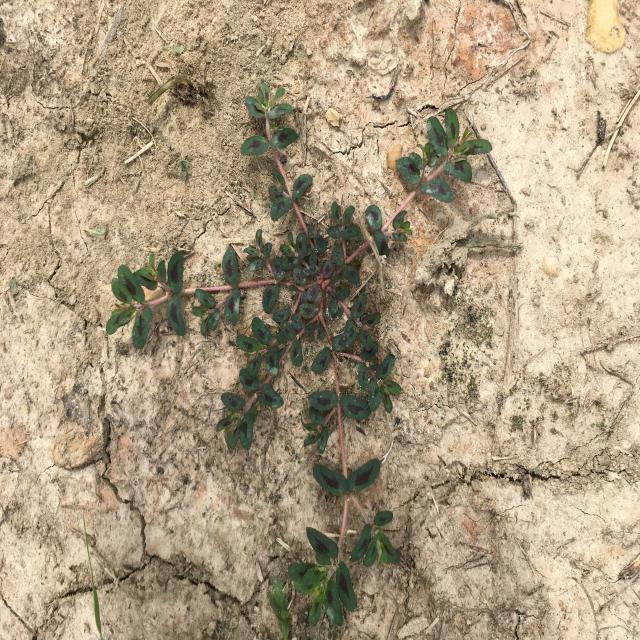SpottedSpurge: (105, 81, 492, 628)
